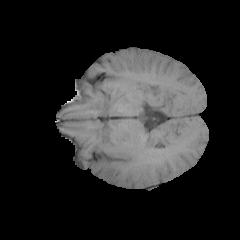glioma: (88, 142, 138, 183)
